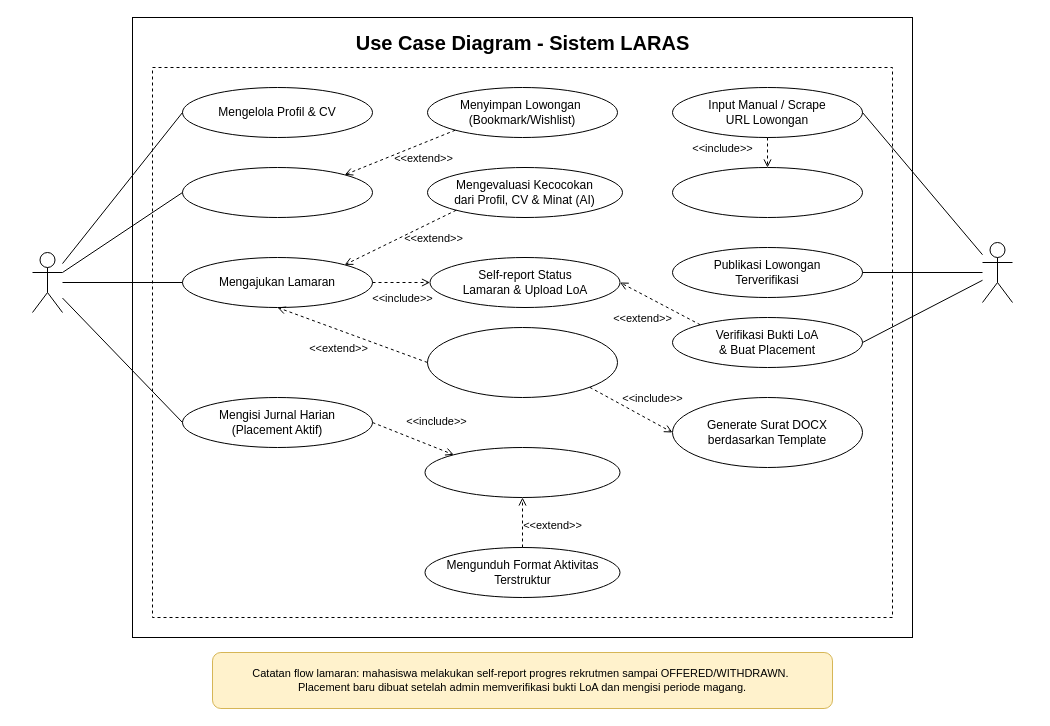
This 1050x726 diagram has some shape labels left out. The shapes that lost their labels are listed below. From the top down, each one's centre as x and y in pixels, then its label:
At (x=277, y=192): "Mencari Lowongan".
At (x=767, y=192): "Kurasi Hasil Scraping".
At (x=47, y=282): "Mahasiswa".
At (x=997, y=272): "Administrator CDA".
At (x=522, y=362): "Mengajukan Surat Pengantar".
At (x=522, y=472): "Generate Laporan Akhir dari Jurnal (Sistem)".
